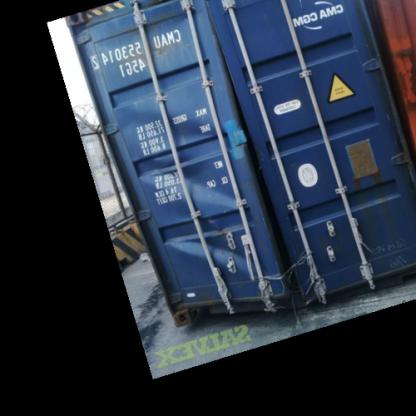Damage: (122, 103, 300, 305), (84, 23, 184, 72), (350, 170, 398, 222)
